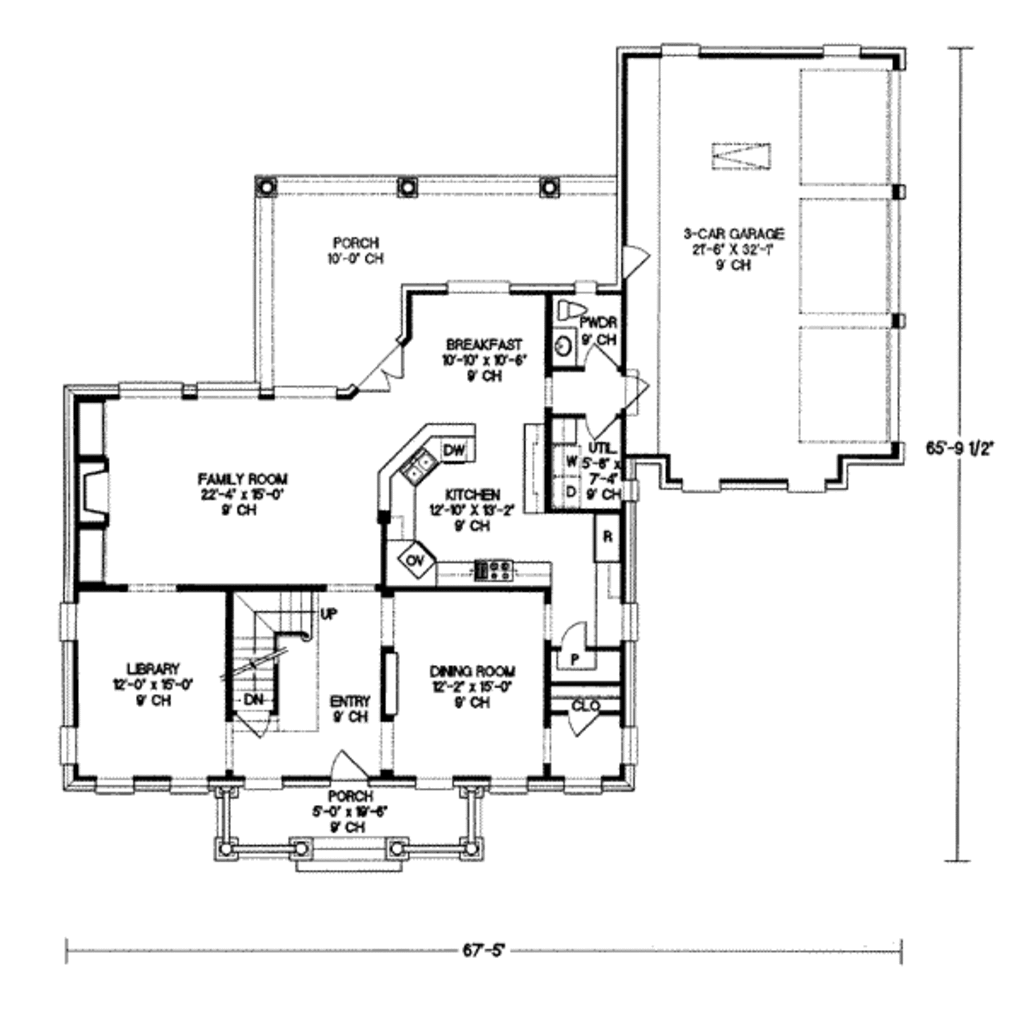door: (355, 347, 411, 400), (332, 748, 371, 793), (555, 618, 598, 655), (558, 709, 606, 736), (619, 244, 653, 280), (582, 344, 617, 376), (584, 414, 618, 445)
large_sink: (551, 293, 593, 331)
small_sink: (551, 326, 580, 372)
stairs: (230, 587, 321, 729)
twin_sink: (392, 442, 450, 494)
window: (109, 375, 185, 408), (443, 275, 520, 301), (658, 39, 707, 61), (57, 601, 79, 646), (58, 725, 79, 768), (817, 43, 865, 60), (524, 775, 569, 793), (130, 775, 171, 794)
